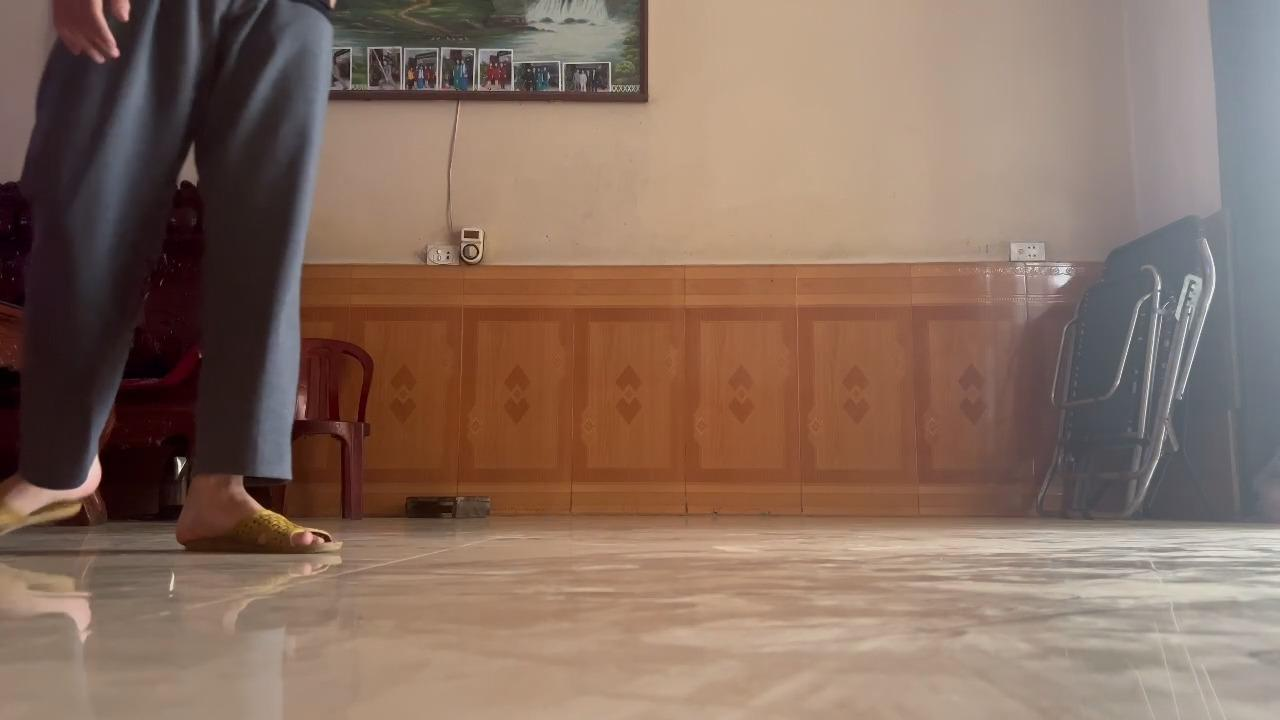no-boot: (167, 482, 353, 566), (0, 459, 117, 541)
